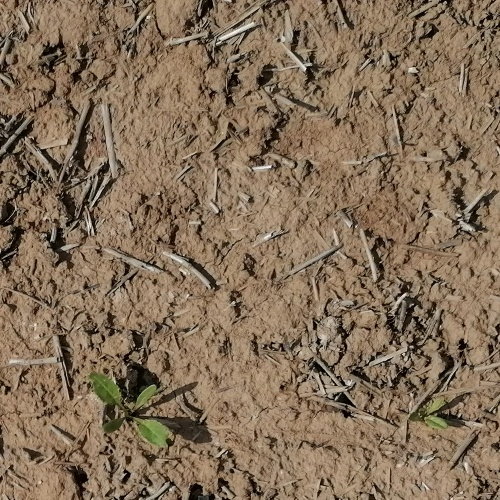beet: (91, 372, 174, 454), (415, 398, 448, 434)
